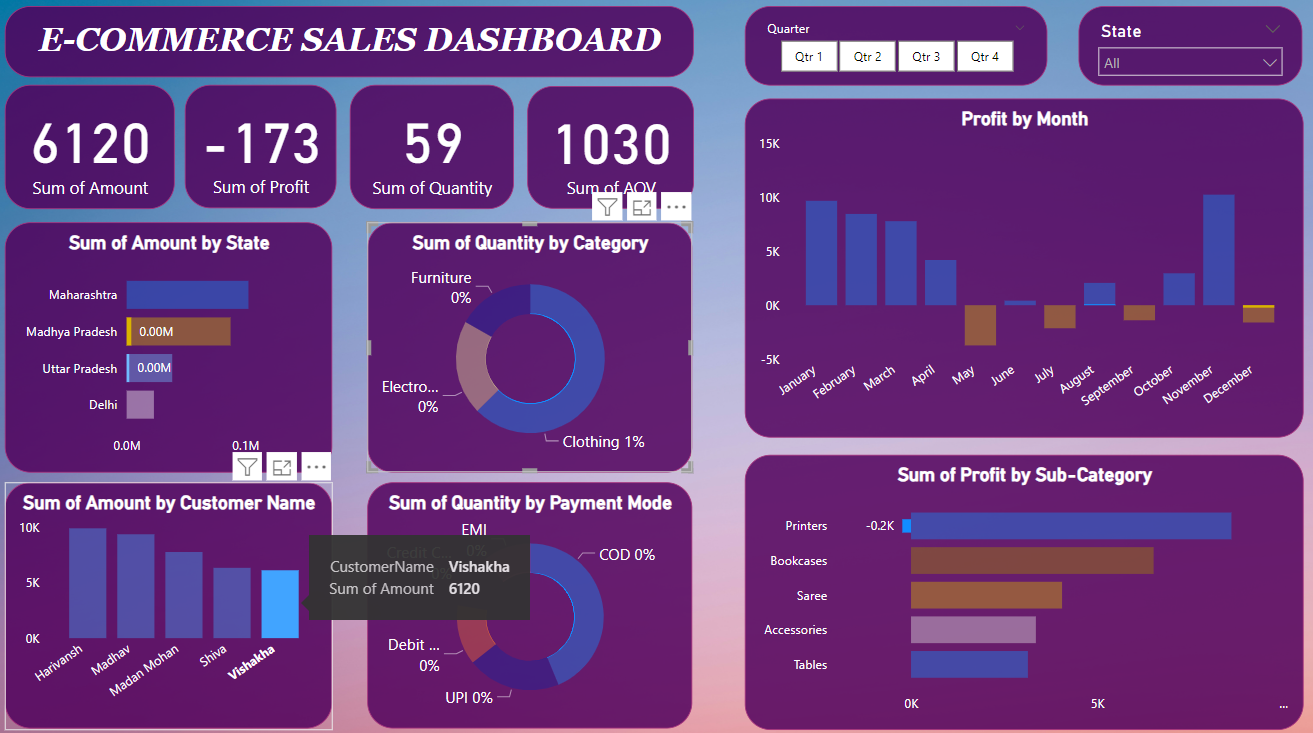

This screenshot's page, from the dashboard's own definition file:
{"tool":"powerbi","page":{"name":"Page 1","canvas":[1280,720],"ordinal":0},"visuals":[{"type":"textbox","box":[13.3,14.5,664.5,68.7],"z":0},{"type":"columnChart","title":"Profit by Month","fields":{"Category":["Orders.Order Date.Variation.Date Hierarchy.Month"],"Y":["Sum(Details.Profit)"]},"box":[727.2,103.7,539.1,326.8],"z":1000},{"type":"barChart","fields":{"Category":["Details.Sub-Category"],"Y":["Sum(Details.Profit)"]},"box":[726,445,539.1,266.5],"z":2000},{"type":"donutChart","fields":{"Category":["Details.Category"],"Y":["Sum(Details.Quantity)"]},"box":[363,223.1,313.6,241.2],"z":3000},{"type":"donutChart","title":"Sum of Quantity by Payment Mode","fields":{"Y":["Sum(Details.Quantity)"],"Category":["Details.PaymentMode"]},"box":[362.5,473.9,313.6,238.6],"z":4000},{"type":"card","fields":{"Values":["Sum(Details.Amount)"]},"box":[13,91,164,120],"z":5000},{"type":"card","fields":{"Values":["Sum(Details.Quantity)"]},"box":[346,90,158,120],"z":6000},{"type":"card","fields":{"Values":["Sum(Details.Profit)"]},"box":[187,91,146,119],"z":7000},{"type":"card","fields":{"Values":["Sum(Details.AOV)"]},"box":[517,92,161,118],"z":8000},{"type":"barChart","fields":{"Category":["Orders.State"],"Y":["Sum(Details.Amount)"]},"box":[13.3,223.1,316,241.2],"z":9000},{"type":"columnChart","title":"Sum of Amount by Customer Name","fields":{"Category":["Orders.CustomerName"],"Y":["Sum(Details.Amount)"]},"box":[13.6,473.9,315.9,238.6],"z":10000},{"type":"slicer","fields":{"Values":["Orders.Order Date.Variation.Date Hierarchy.Quarter"]},"box":[727.2,14.5,291.9,77.2],"z":11000},{"type":"slicer","fields":{"Values":["Orders.State"]},"box":[1049.2,14.5,215.9,77.2],"z":12000}]}

Visuals, with their boxes in screenshot pixels (x1, y1, x2, y2), scaled from the page's 1280x720 canvas onto the 1313x733 screenshot:
textbox: {"left": 14, "top": 15, "right": 695, "bottom": 85}
"Profit by Month" columnChart: {"left": 746, "top": 106, "right": 1299, "bottom": 438}
barChart - Details.Sub-Category x Sum(Details.Profit): {"left": 745, "top": 453, "right": 1298, "bottom": 724}
donutChart - Details.Category x Sum(Details.Quantity): {"left": 372, "top": 227, "right": 694, "bottom": 473}
"Sum of Quantity by Payment Mode" donutChart: {"left": 372, "top": 482, "right": 694, "bottom": 725}
card - Sum(Details.Amount): {"left": 13, "top": 93, "right": 182, "bottom": 215}
card - Sum(Details.Quantity): {"left": 355, "top": 92, "right": 517, "bottom": 214}
card - Sum(Details.Profit): {"left": 192, "top": 93, "right": 342, "bottom": 214}
card - Sum(Details.AOV): {"left": 530, "top": 94, "right": 695, "bottom": 214}
barChart - Orders.State x Sum(Details.Amount): {"left": 14, "top": 227, "right": 338, "bottom": 473}
"Sum of Amount by Customer Name" columnChart: {"left": 14, "top": 482, "right": 338, "bottom": 725}
slicer - Orders.Order Date.Variation.Date Hierarchy.Quarter: {"left": 746, "top": 15, "right": 1045, "bottom": 93}
slicer - Orders.State: {"left": 1076, "top": 15, "right": 1298, "bottom": 93}
